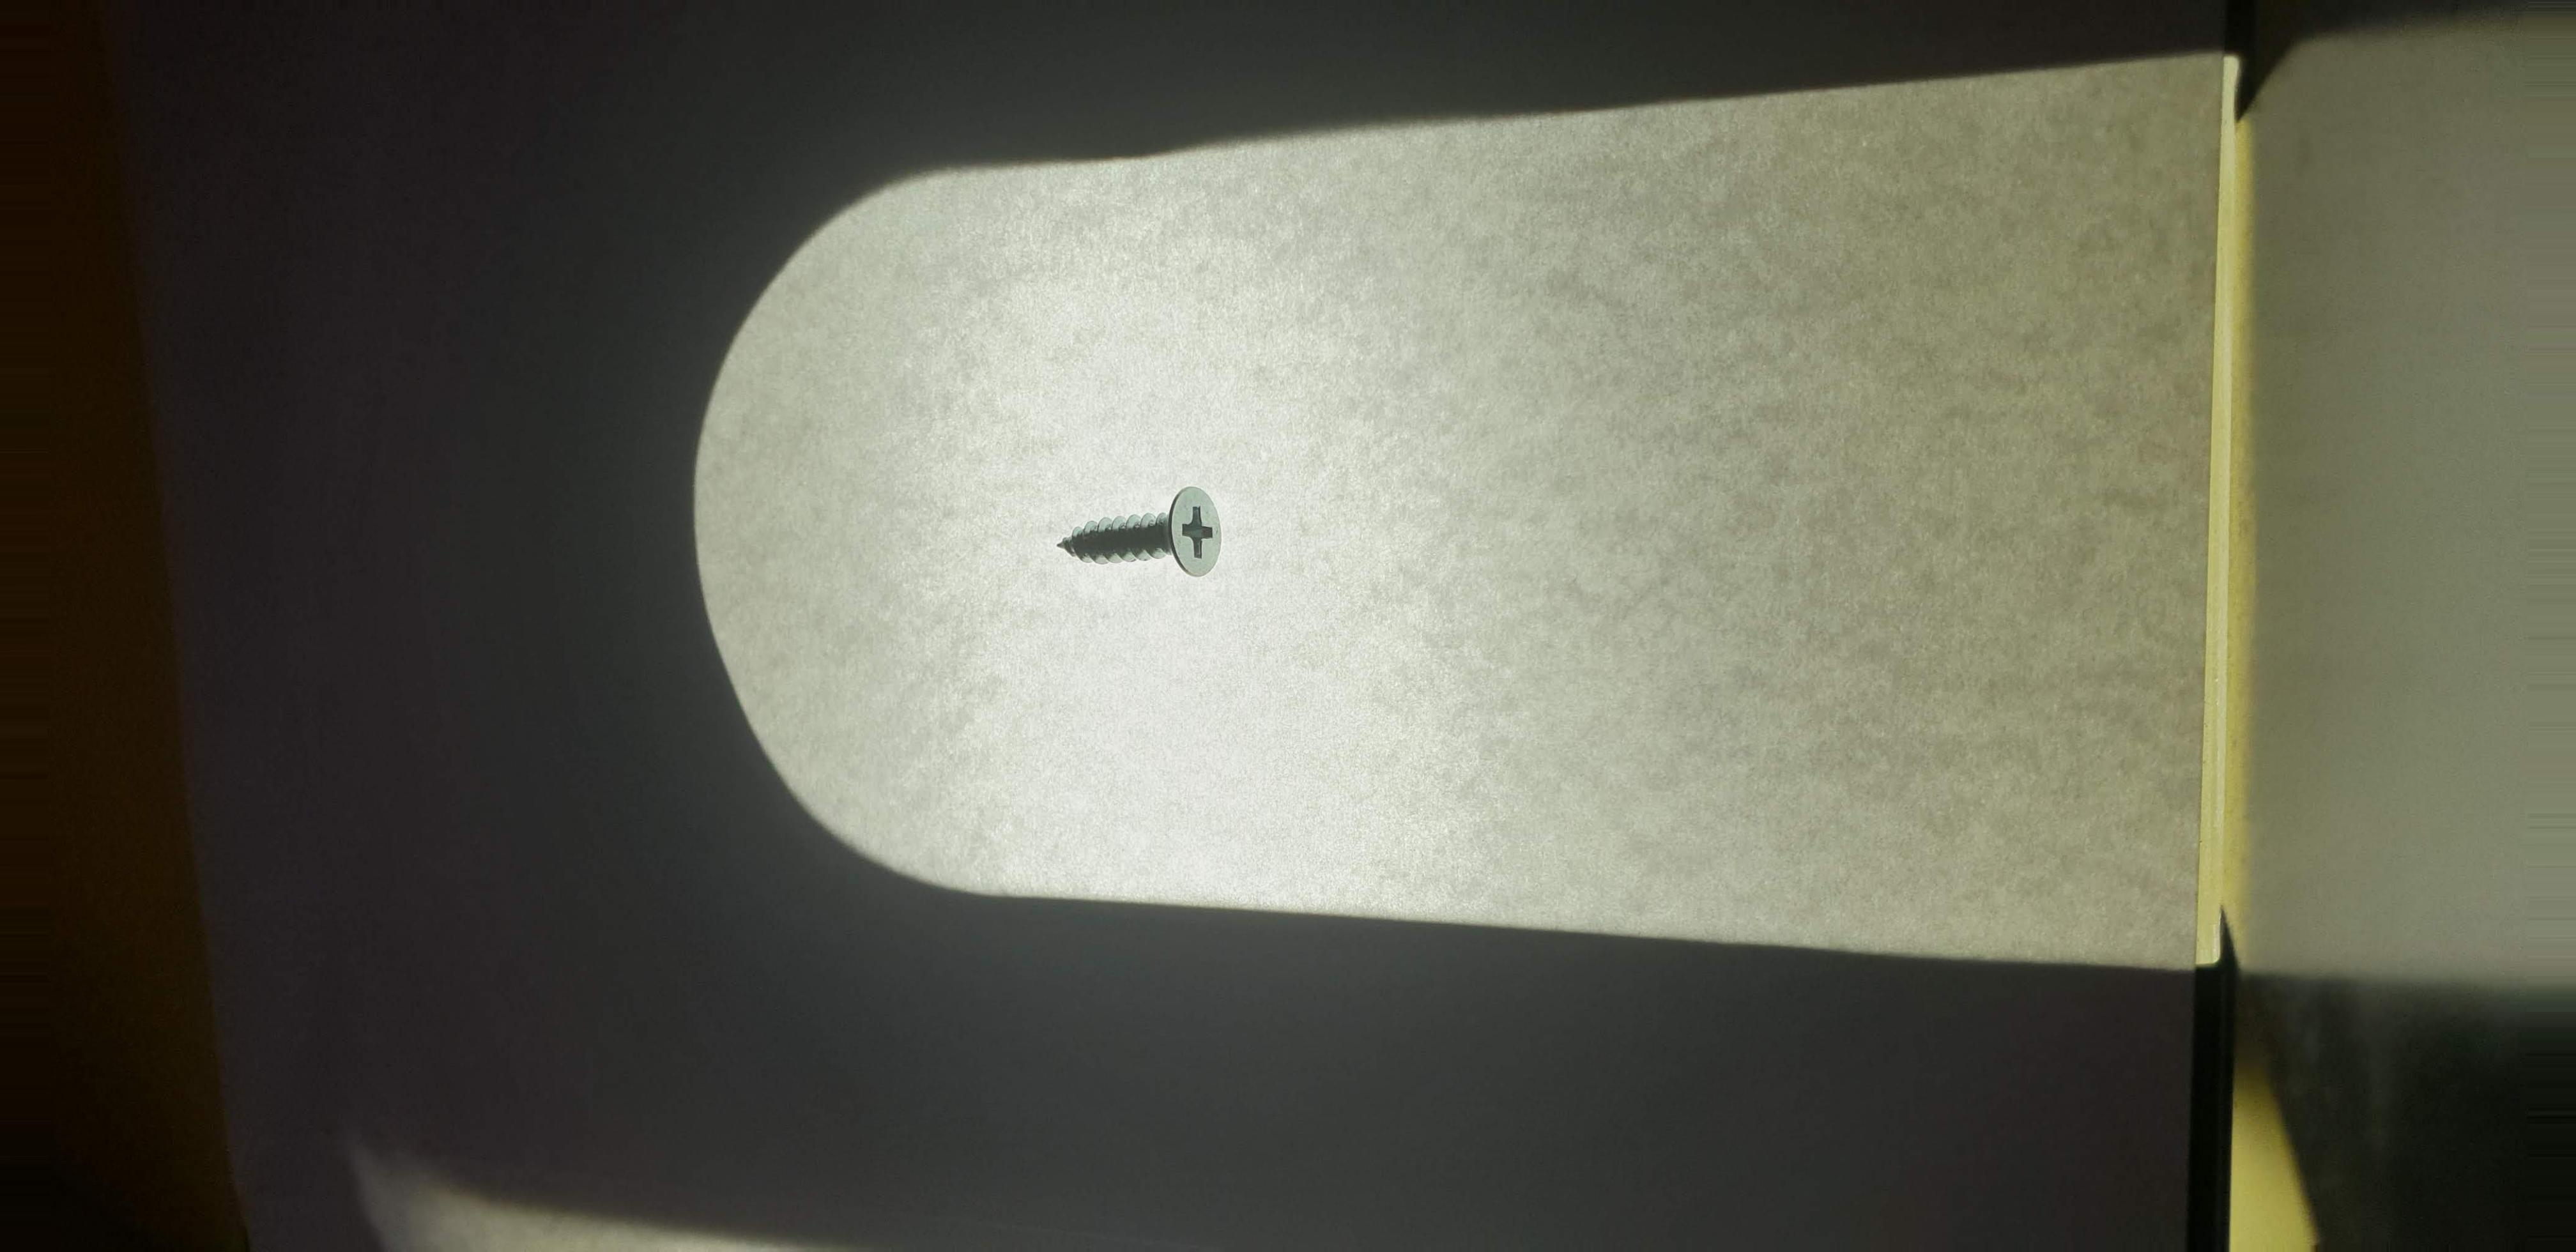S003: (1045, 475, 1245, 585)
